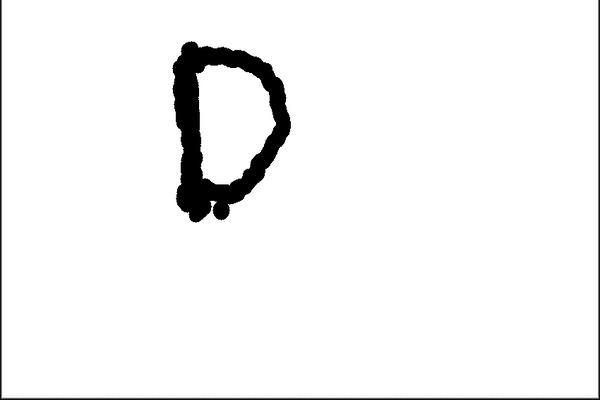D: (155, 34, 305, 225)
